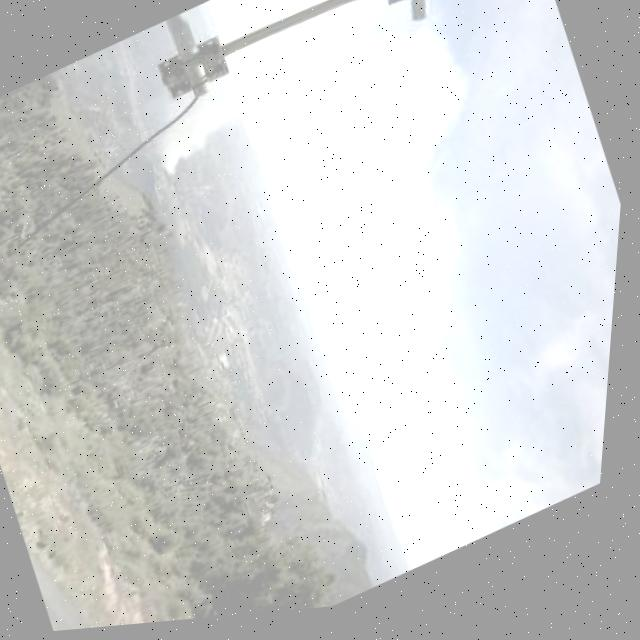Smoke: (143, 16, 421, 239)
